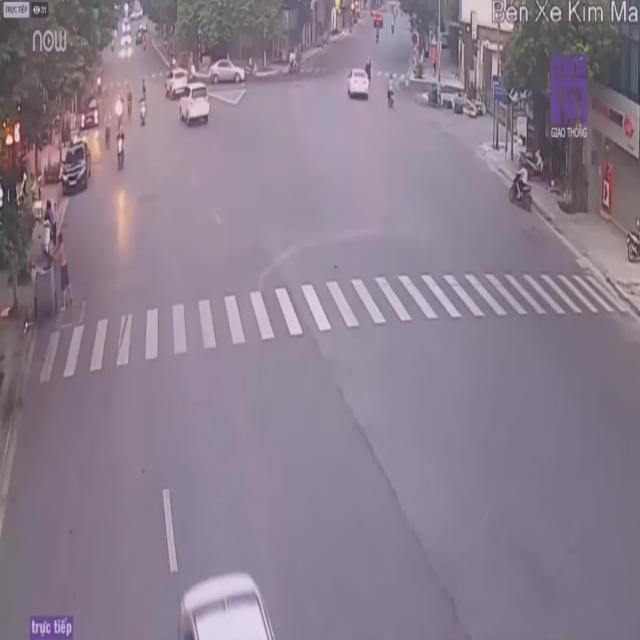car: (168, 565, 294, 640), (178, 79, 212, 132), (60, 137, 91, 194), (348, 64, 369, 98)
motorbike: (510, 163, 534, 216), (386, 72, 396, 110)
